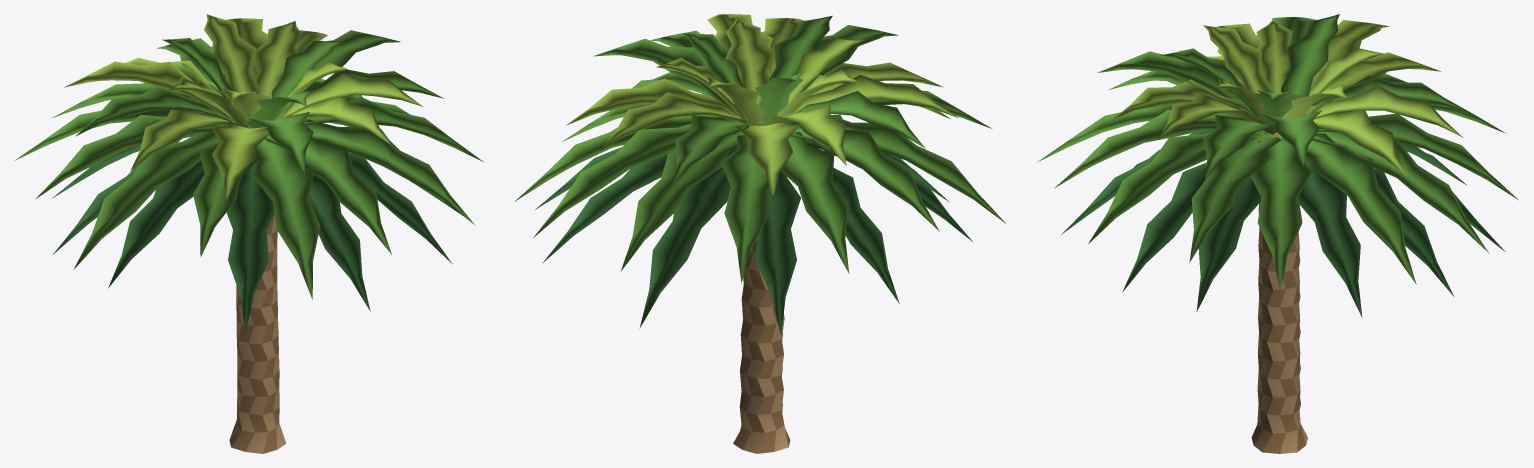
Rendered from tree_palm.glb.
3 renders of one model, left to right at view 1: azimuth 30°, elevation 25°; view 2: azimuth 150°, elevation 25°; view 3: azimuth 270°, elevation 25°, orthographic.
Parts seen in each view (by area): view 1: leaves, trunk; view 2: leaves, trunk; view 3: leaves, trunk.
Boxes of the visible parts, left/top/right/bottom form: leaves: left=15, top=14, right=483, bottom=331; trunk: left=229, top=214, right=286, bottom=453; leaves: left=514, top=14, right=1006, bottom=335; trunk: left=733, top=239, right=790, bottom=453; leaves: left=1038, top=14, right=1518, bottom=317; trunk: left=1251, top=202, right=1307, bottom=453.
Size of the model in its own units: 10.05 by 9.22 by 10.19.
